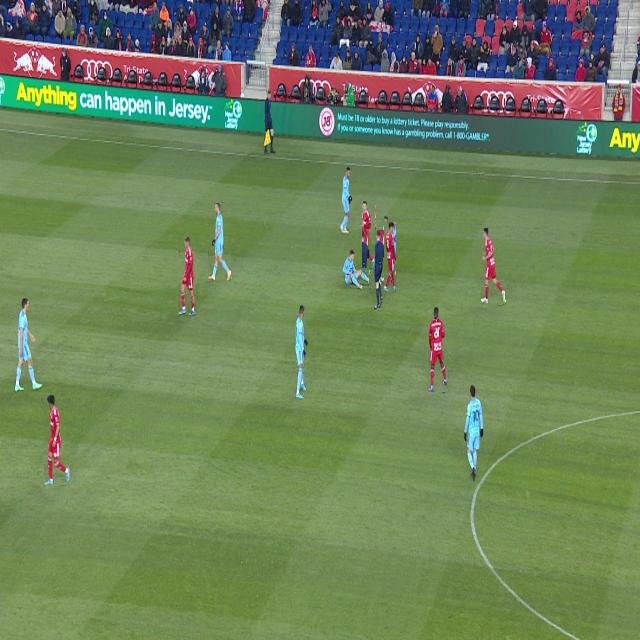player: (15, 299, 42, 392), (45, 395, 70, 485), (482, 229, 505, 304), (209, 203, 231, 281), (465, 386, 483, 481), (429, 308, 447, 392), (179, 237, 195, 315), (343, 250, 374, 289), (373, 216, 389, 286), (296, 305, 307, 398), (339, 167, 352, 234), (384, 222, 396, 292), (363, 201, 375, 268)
referee: (369, 231, 385, 308)
